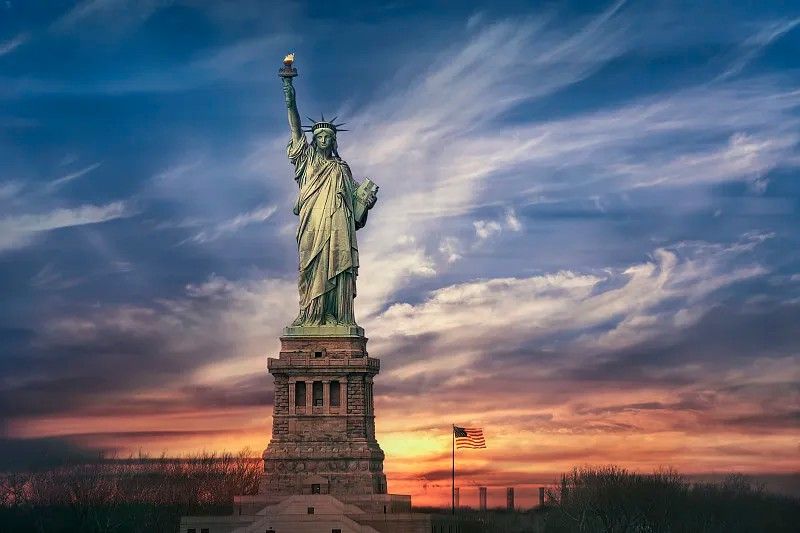SL: (256, 52, 388, 495)
